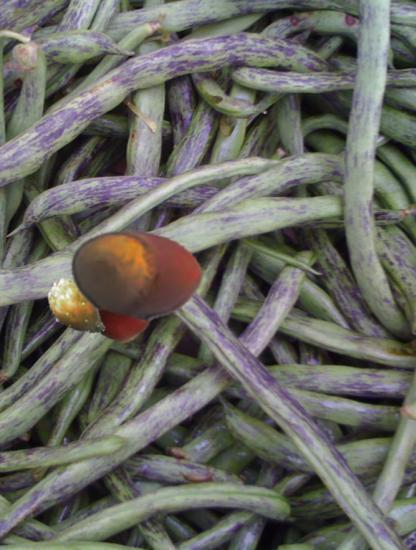Cactus: (42, 275, 112, 345)
Hazelnut: (69, 206, 203, 340)
Nectarine: (96, 289, 152, 345)
